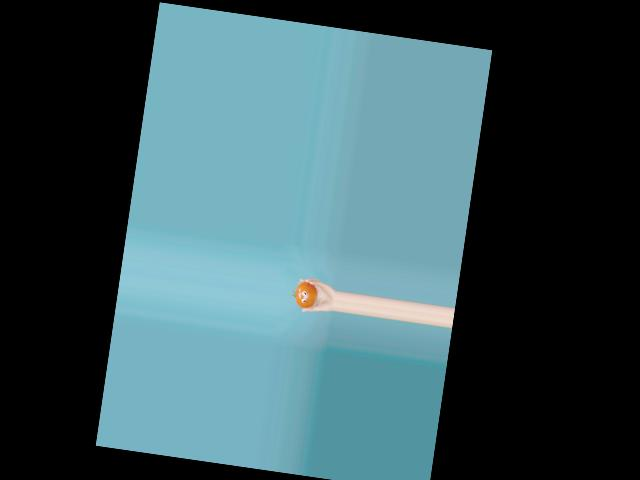tomato: (293, 280, 319, 310)
